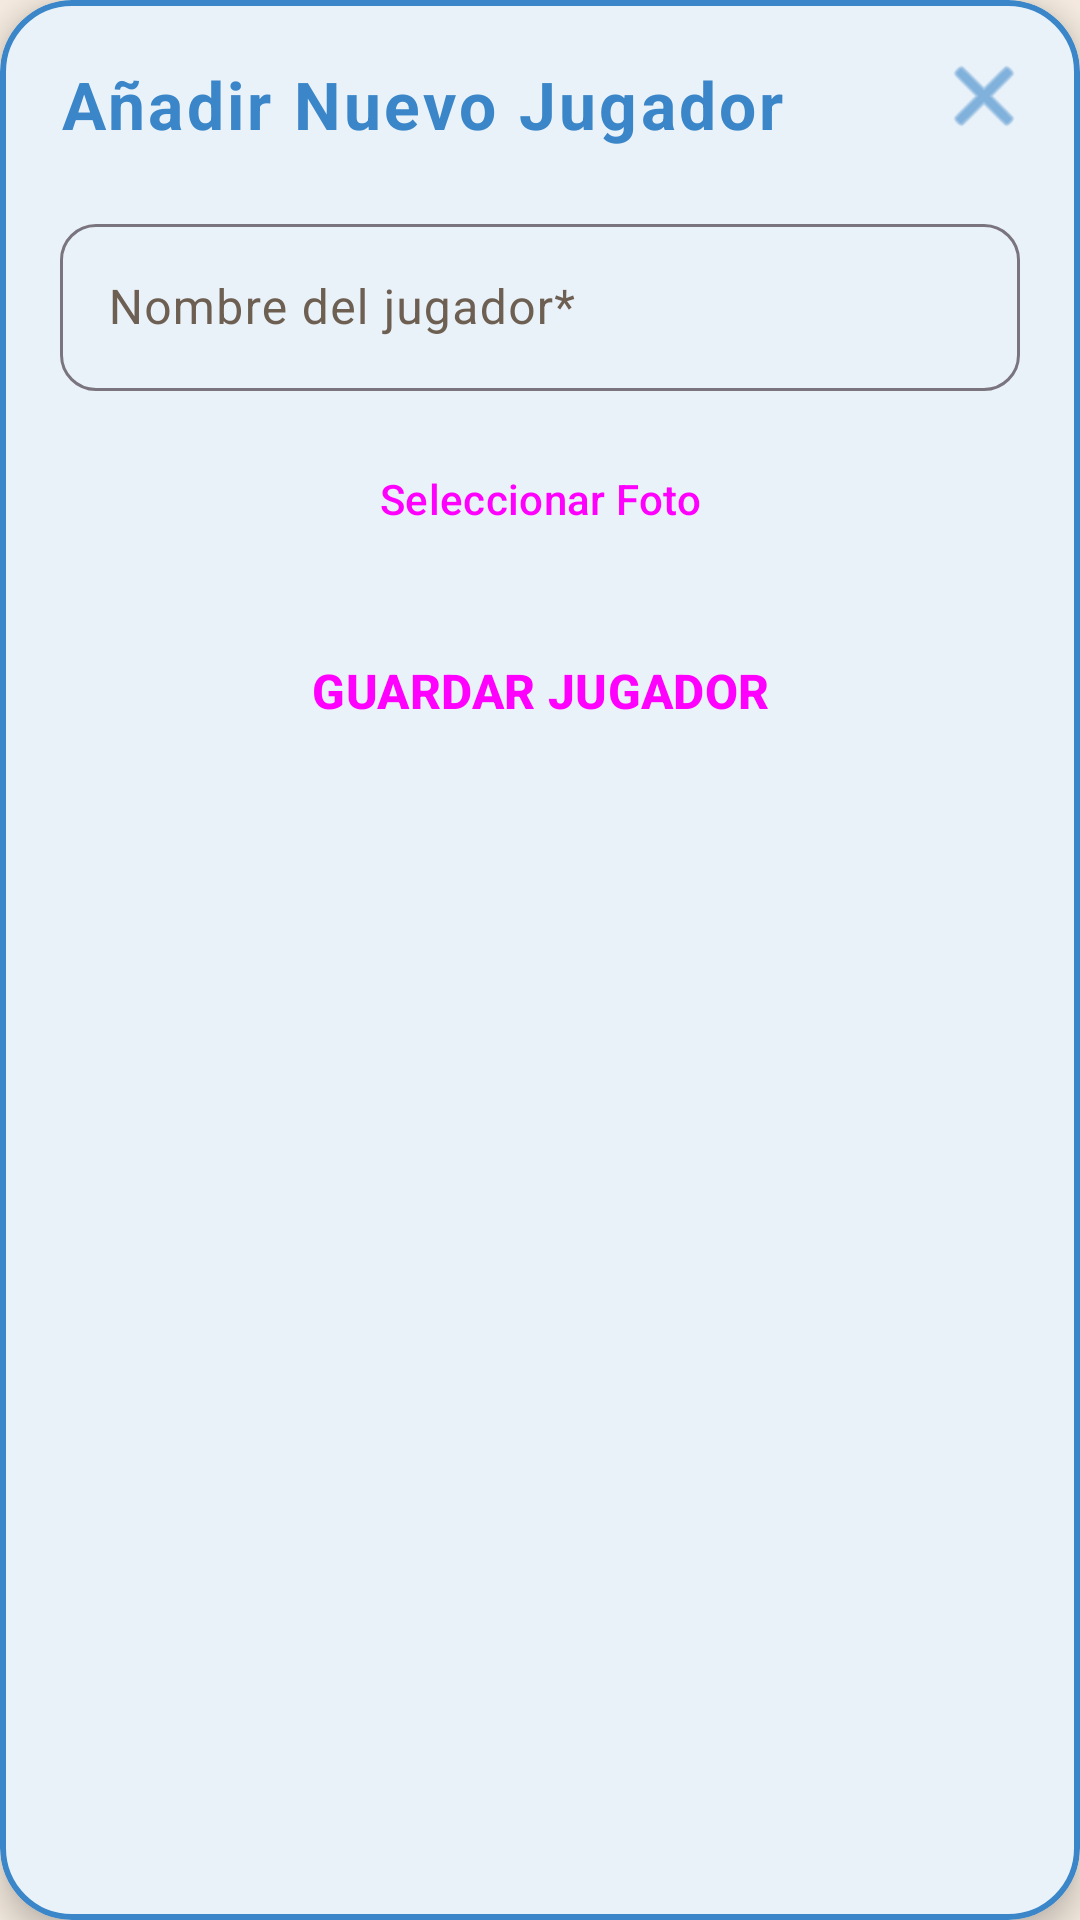

Where to tap for icons on this 1080 x 1920 app screen, as (x=x, y=y):
Cerrar: (x=984, y=96)
